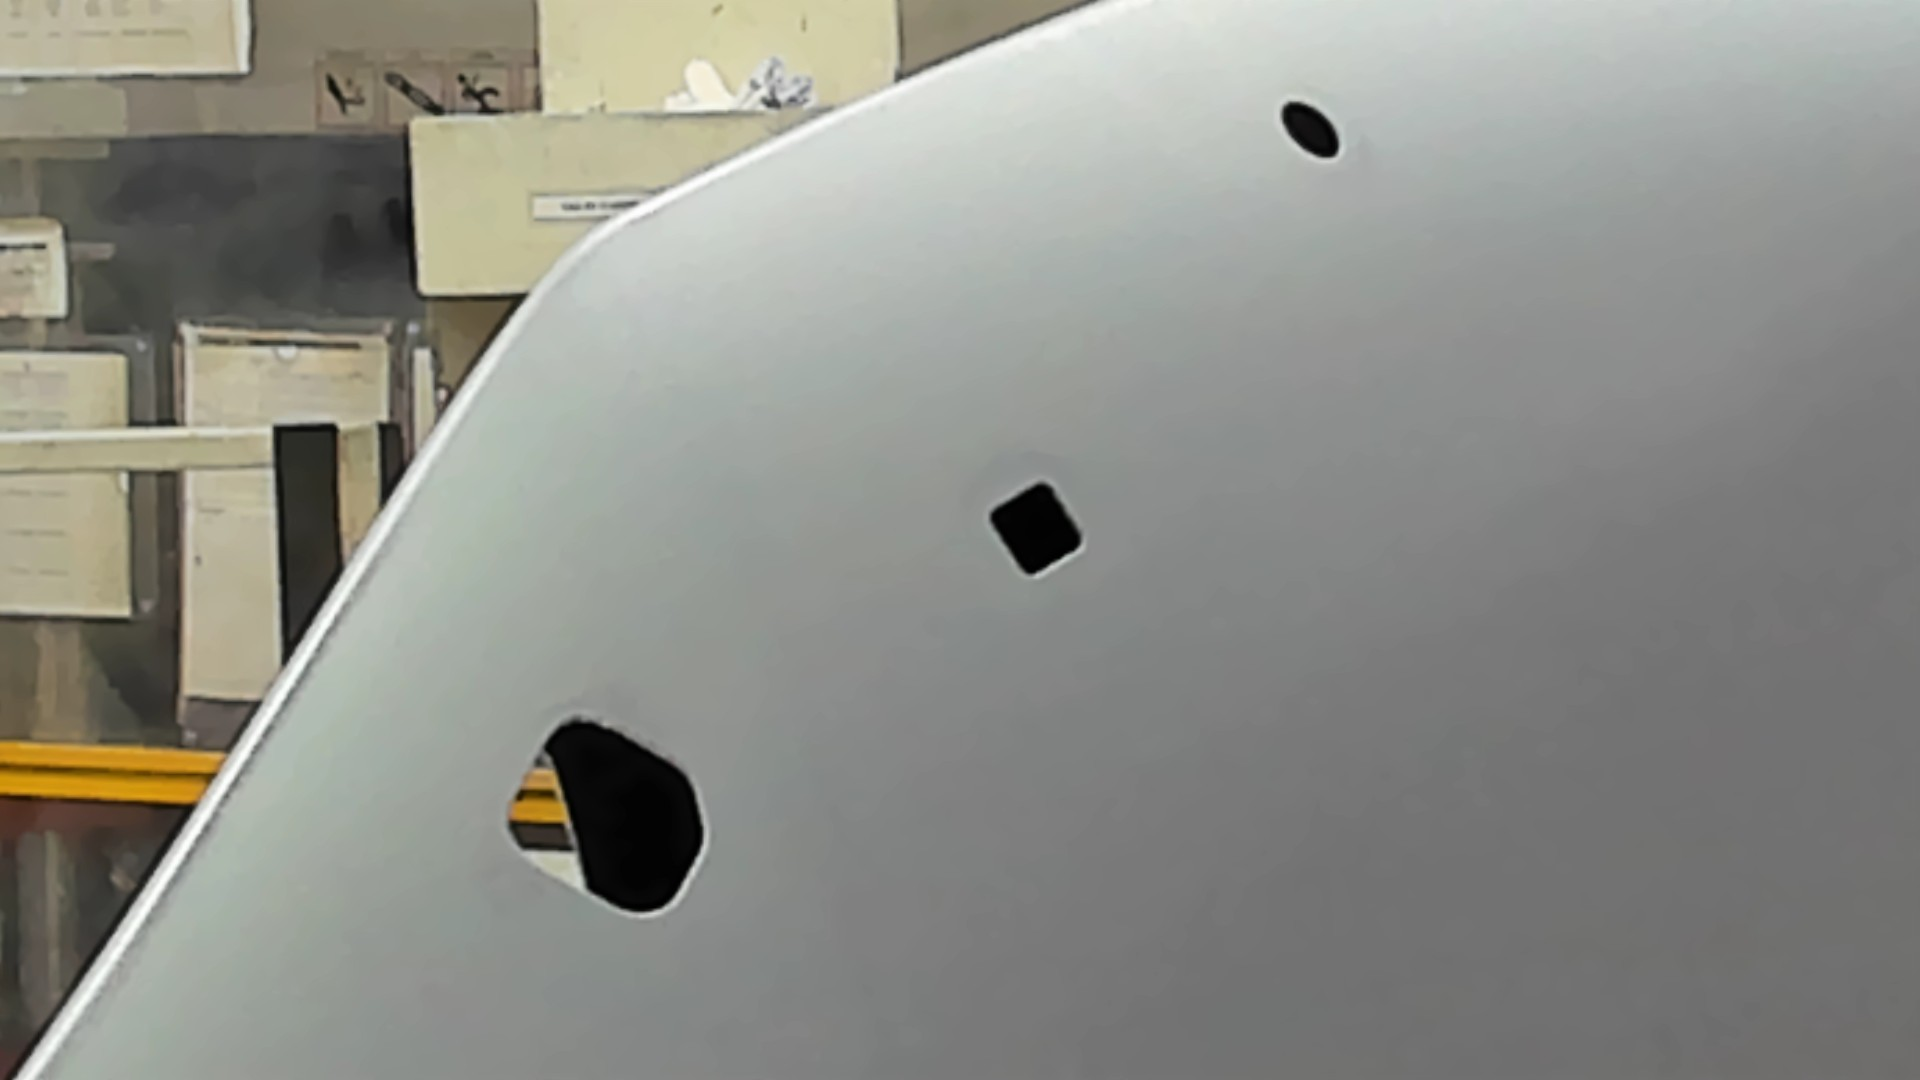capo: (1098, 169, 1920, 1080)
chico: (1279, 98, 1345, 164)
grande: (506, 709, 715, 923)
mediano: (977, 471, 1092, 582)
